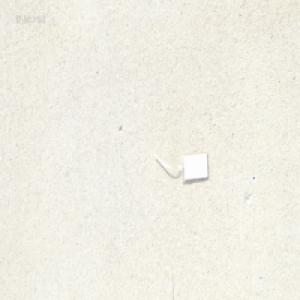LuggageTag: (153, 150, 209, 183)
